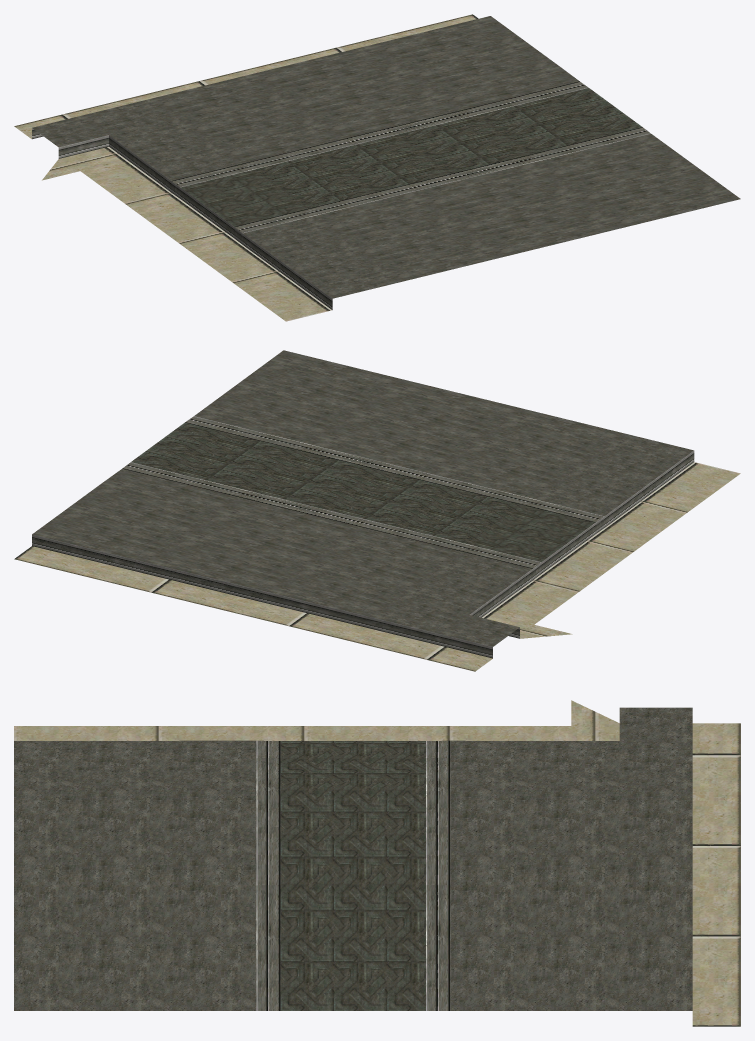
File: DWARF_PALACE_MAINHALL_FLOOR05.fbx
The picture shows the model from 3 angles, top to bottom: view 1: azimuth 30°, elevation 25°; view 2: azimuth 150°, elevation 25°; view 3: azimuth 270°, elevation 25°; orthographic projection. The views are drawn at different scales.
Visible parts, largest first — view 1: DWARF_PALACE_MAINHALL_FLOOR05; view 2: DWARF_PALACE_MAINHALL_FLOOR05; view 3: DWARF_PALACE_MAINHALL_FLOOR05.
Boxes of the visible parts, <box> form: DWARF_PALACE_MAINHALL_FLOOR05: <box>14,14,740,321</box>; DWARF_PALACE_MAINHALL_FLOOR05: <box>14,350,740,671</box>; DWARF_PALACE_MAINHALL_FLOOR05: <box>14,700,740,1026</box>.
Size of the model in its own units: 318805 by 7129 by 300000.
5 materials, 5 textured.
